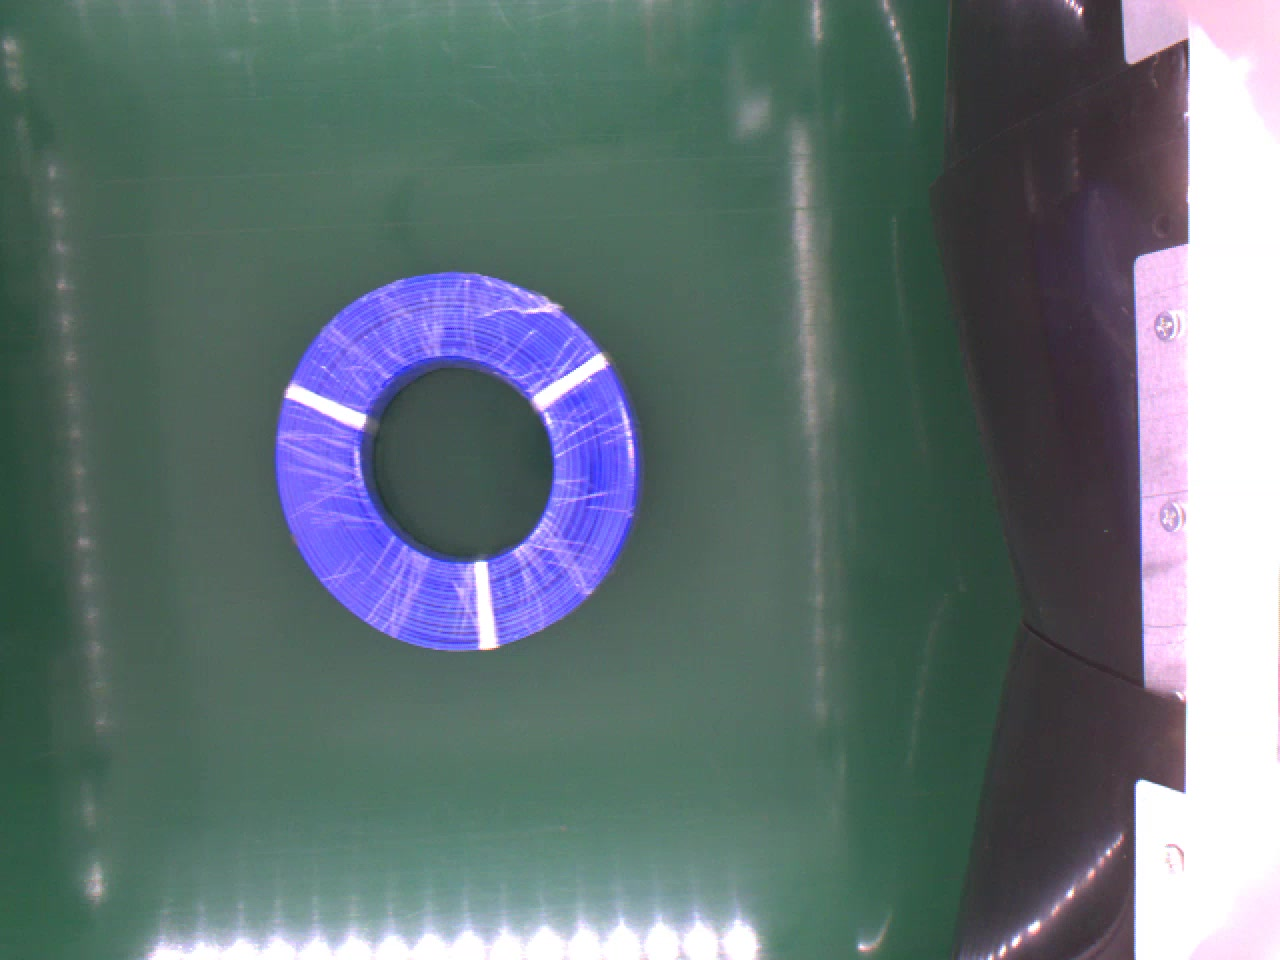blue: (269, 268, 652, 651)
